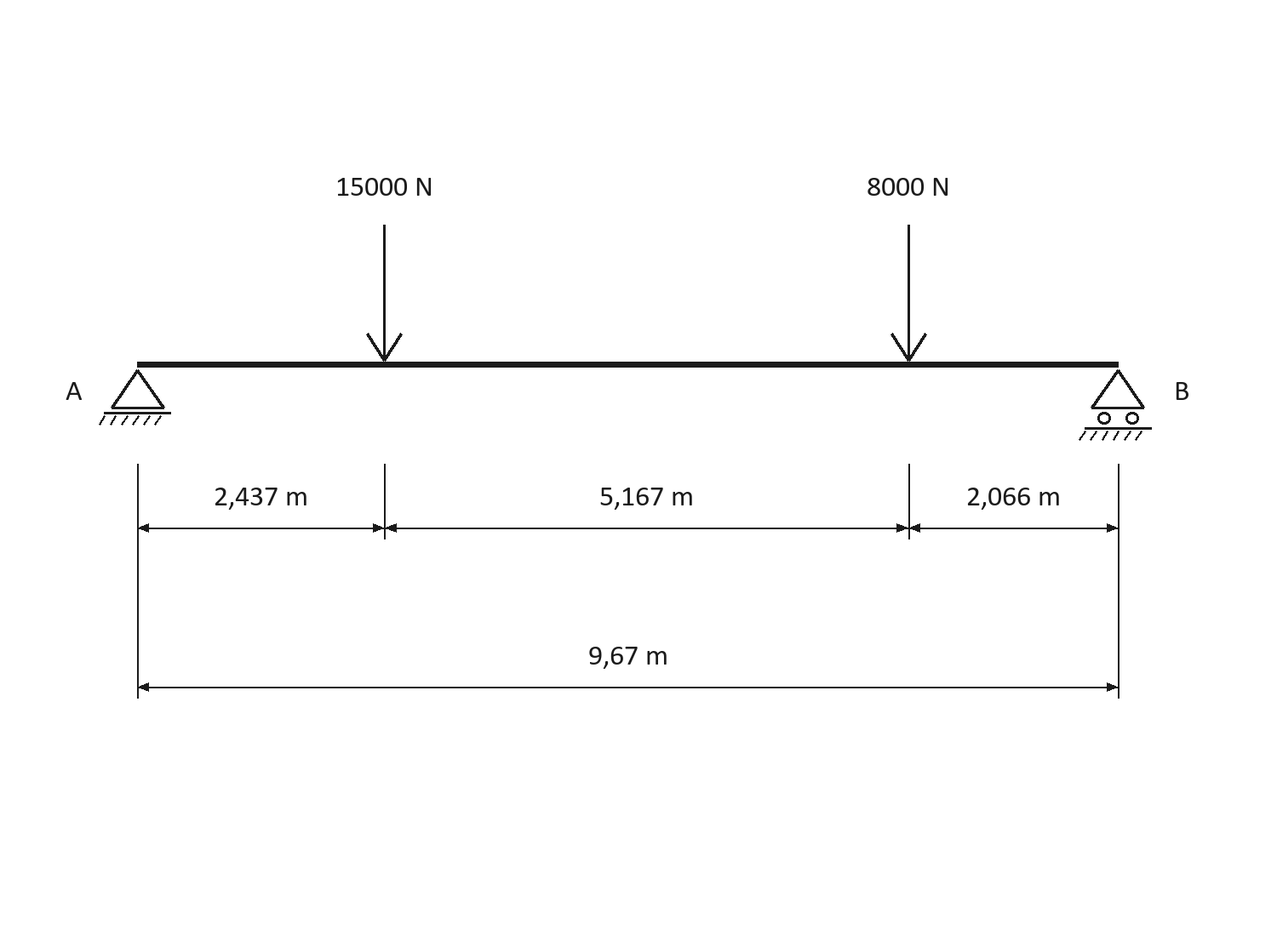pin_support: (99, 369, 171, 425)
point_load: (366, 225, 403, 362), (890, 225, 927, 362)
roller_support: (1079, 369, 1152, 441)
